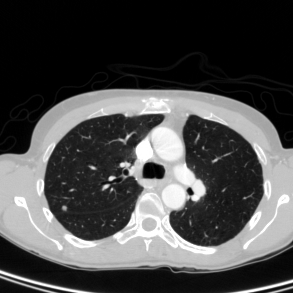nodule: (61, 205, 67, 211)
